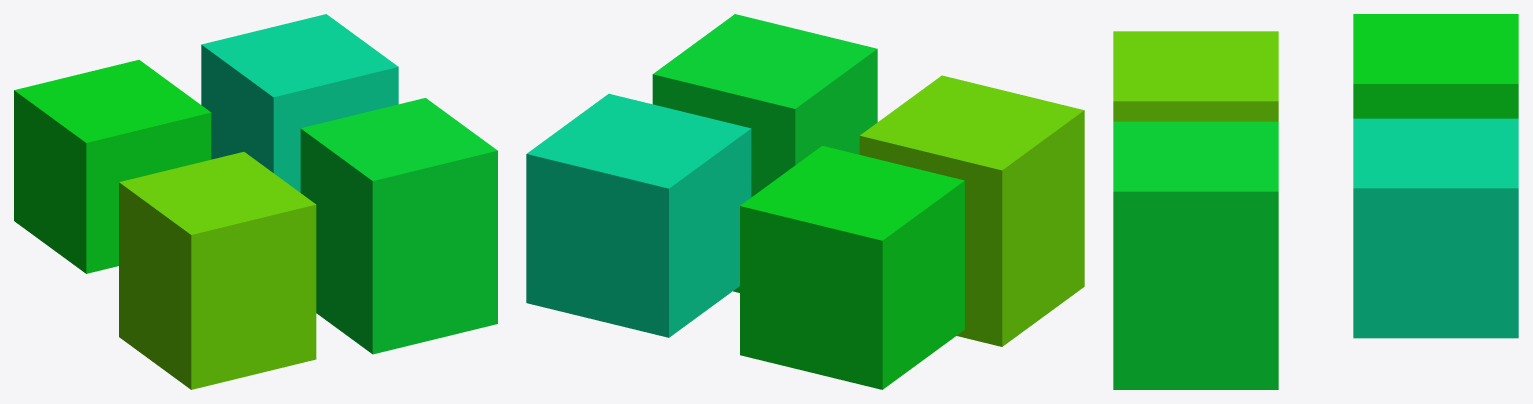
File: bluerecource patch.glb
The picture shows the model from 3 angles, left to right: view 1: azimuth 30°, elevation 25°; view 2: azimuth 150°, elevation 25°; view 3: azimuth 270°, elevation 25°; orthographic projection. The views are drawn at different scales.
Visible parts, largest first — view 1: Cube.002, Cube.001, Cube, Cube.003; view 2: Cube, Cube.003, Cube.001, Cube.002; view 3: Cube.002, Cube.003, Cube, Cube.001.
Part boxes in pixels (box(x1,y1,x2,y2)): Cube.002: box(300, 98, 497, 354); Cube.001: box(119, 152, 316, 389); Cube: box(14, 60, 211, 273); Cube.003: box(201, 14, 398, 192); Cube: box(740, 145, 964, 389); Cube.003: box(526, 93, 751, 337); Cube.001: box(859, 75, 1084, 346); Cube.002: box(652, 14, 877, 292); Cube.002: box(1113, 121, 1278, 389); Cube.003: box(1353, 118, 1518, 338); Cube: box(1353, 14, 1518, 118); Cube.001: box(1113, 31, 1278, 121).
Size of the model in its own units: 3.63 by 1.99 by 3.57.
